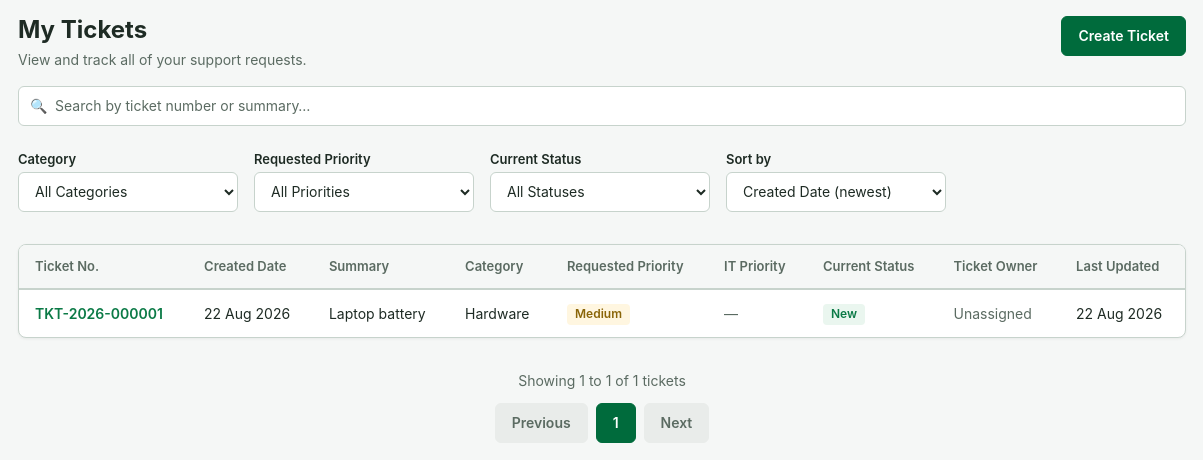
UI-10 — No-results state › shows no-results message when filters active and zero matches
Select "Hardware" in the dropdown labelled "Category". click: coordinates (128, 192)
box: [18,172,238,212]
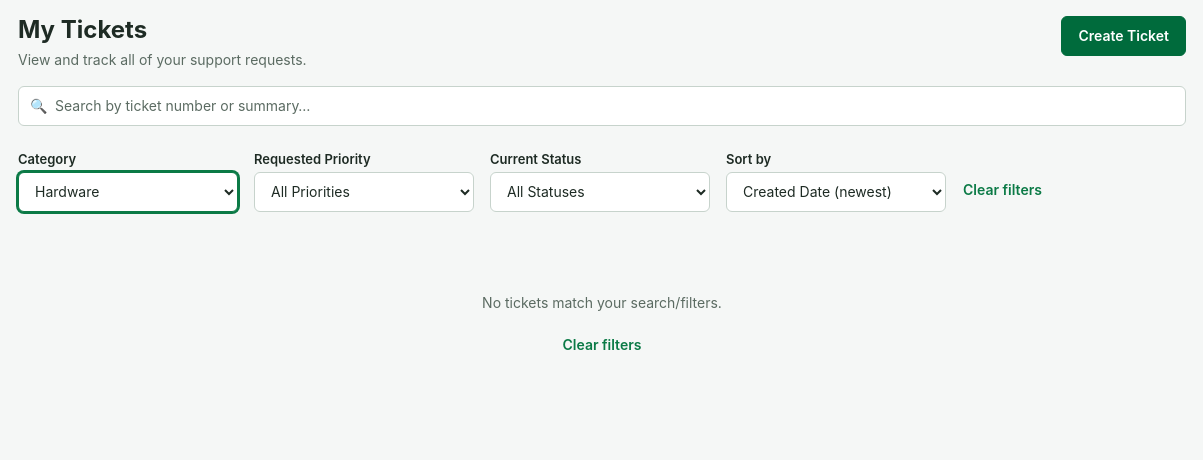
Result: the text "No tickets match your search/filters." is shown at [482,292,722,313]
